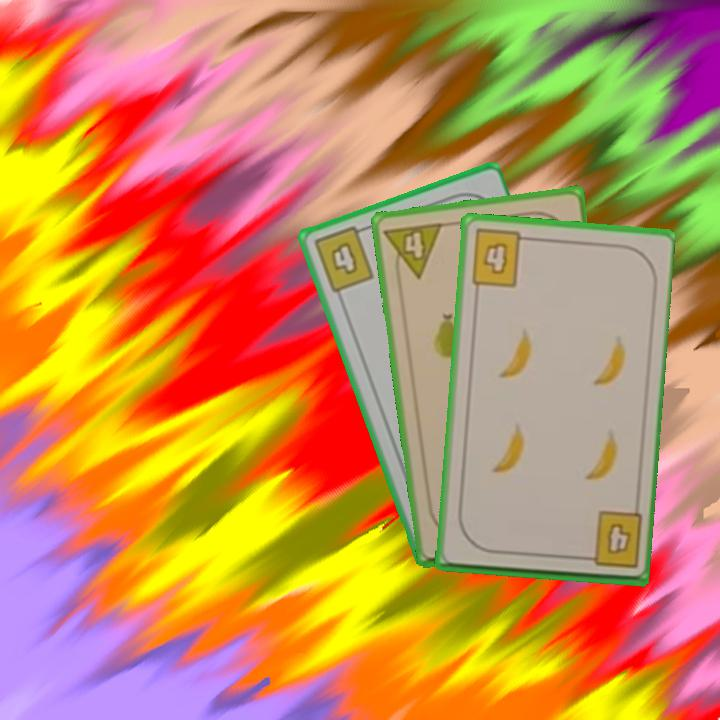4b: (309, 222, 377, 296), (576, 508, 644, 572), (468, 226, 533, 290)
4p: (380, 219, 446, 284)
